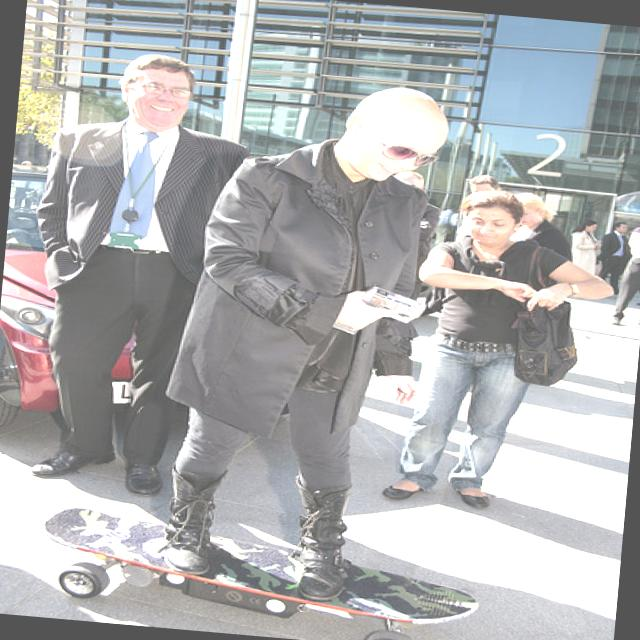Vehicle: (0, 162, 159, 445)
